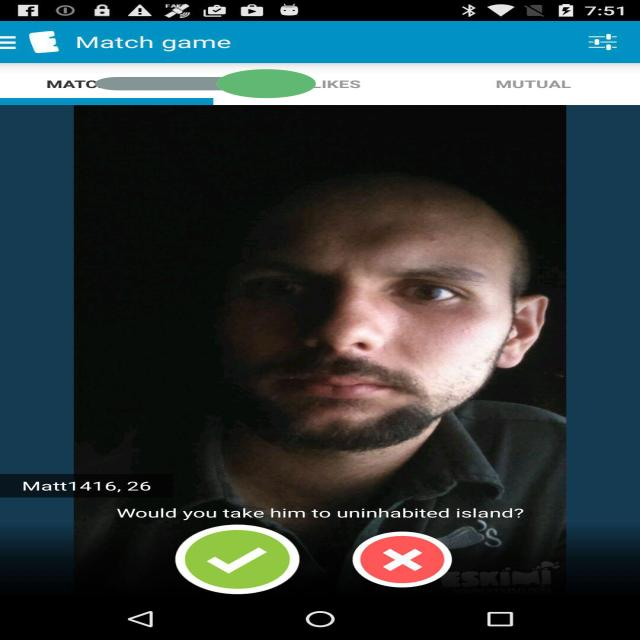social proof: (95, 51, 316, 116)
